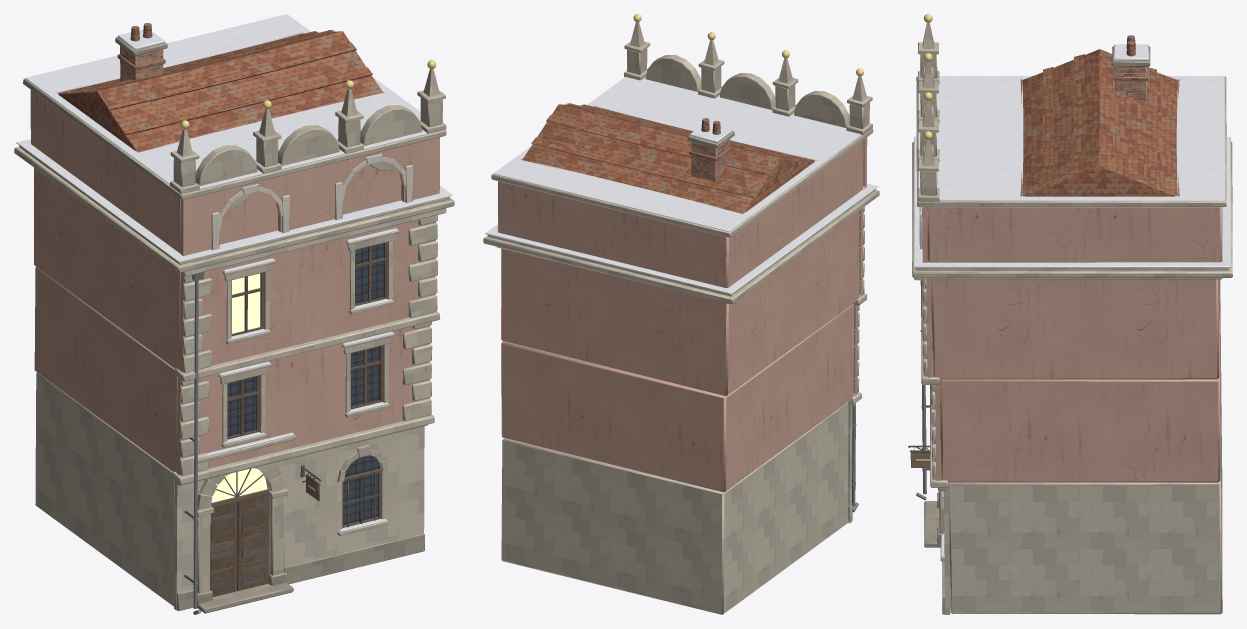
File: tenement_b.glb
3 renders of one model, left to right at view 1: azimuth 30°, elevation 25°; view 2: azimuth 150°, elevation 25°; view 3: azimuth 270°, elevation 25°, orthographic. The views are drawn at different scales.
Parts seen in each view (by area): view 1: tenement_b; view 2: tenement_b; view 3: tenement_b.
Part boxes in pixels (x1,y1,x2,y2): tenement_b: [14, 14, 454, 614]; tenement_b: [483, 14, 879, 614]; tenement_b: [908, 14, 1232, 614].
Size of what is drawn, in the model's own units: 8.99 by 15.49 by 9.37.
16 materials, 15 textured.
